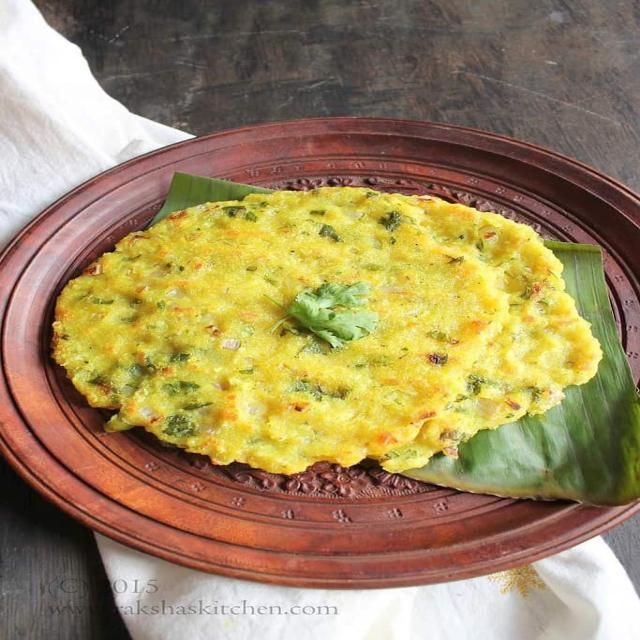UPMA: (54, 185, 599, 472)
